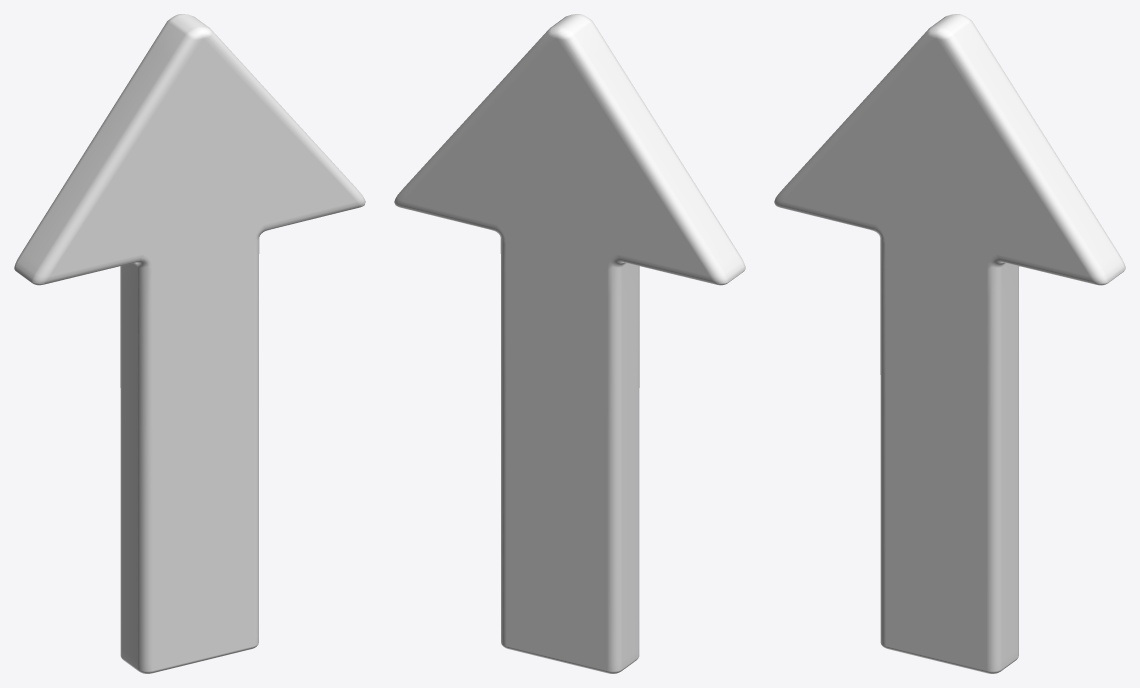
Rendered from Arrow.fbx.
The picture shows the model from 3 angles, left to right: view 1: azimuth 30°, elevation 25°; view 2: azimuth 150°, elevation 25°; view 3: azimuth 330°, elevation 25°; orthographic projection.
Parts seen in each view (by area): view 1: node_id36; view 2: node_id36; view 3: node_id36.
Part boxes in pixels (left/top/right/bottom): node_id36: left=14, top=14, right=365, bottom=673; node_id36: left=394, top=14, right=745, bottom=673; node_id36: left=774, top=14, right=1125, bottom=673.
Size of the model in its own units: 0.1708 by 0.3098 by 0.024.
Materials: 1 (1 with a texture image).
